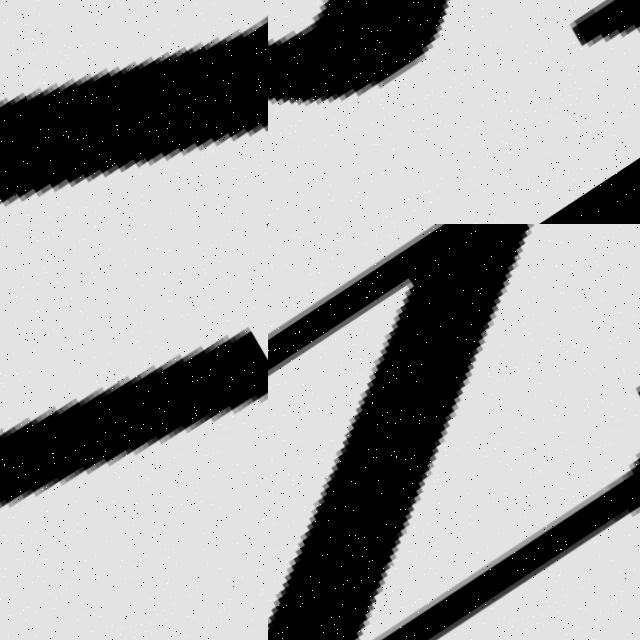I: (0, 24, 268, 208), (0, 331, 268, 512)
N: (268, 224, 640, 640)
S: (268, 0, 640, 224)
